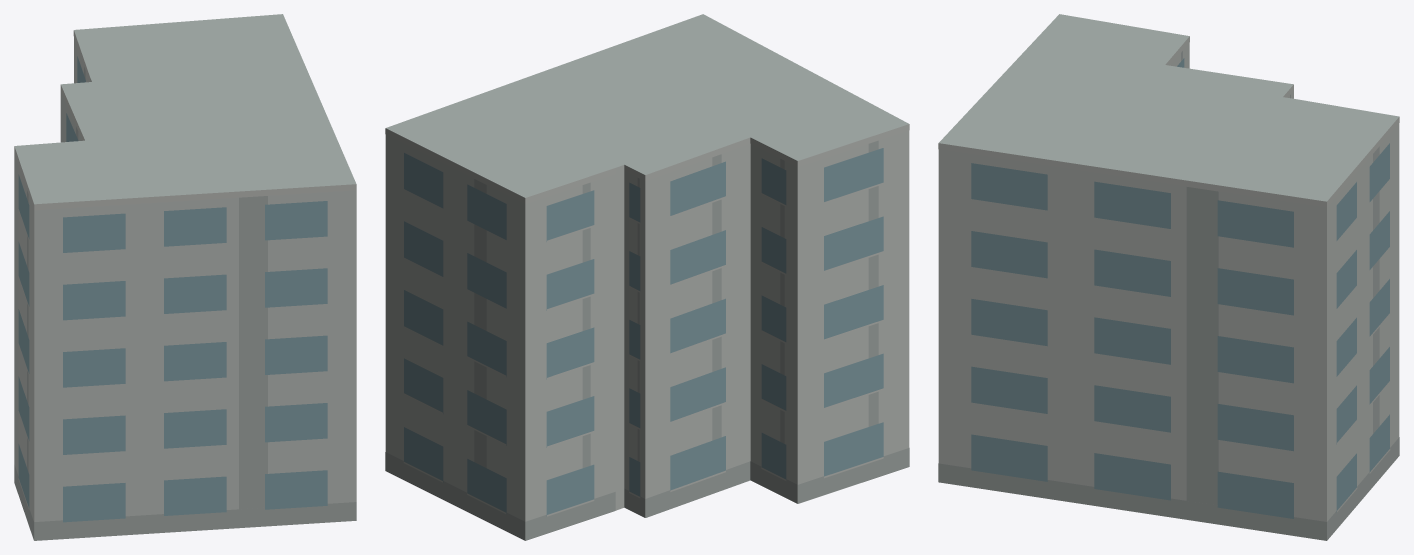
Rendered from survey-upis-32891083.glb.
3 views of the same model, side by side, from view 1: azimuth 30°, elevation 25°; view 2: azimuth 150°, elevation 25°; view 3: azimuth 270°, elevation 25° (orthographic).
Parts seen in each view (by area): view 1: survey-upis-32891083.tmp; view 2: survey-upis-32891083.tmp; view 3: survey-upis-32891083.tmp.
Boxes of the visible parts, x1=… form: survey-upis-32891083.tmp: x1=14, y1=14, x2=356, y2=540; survey-upis-32891083.tmp: x1=385, y1=14, x2=909, y2=540; survey-upis-32891083.tmp: x1=938, y1=14, x2=1399, y2=540.
Bounding box in the file's own units: 15.73 × 13.25 × 16.33.
